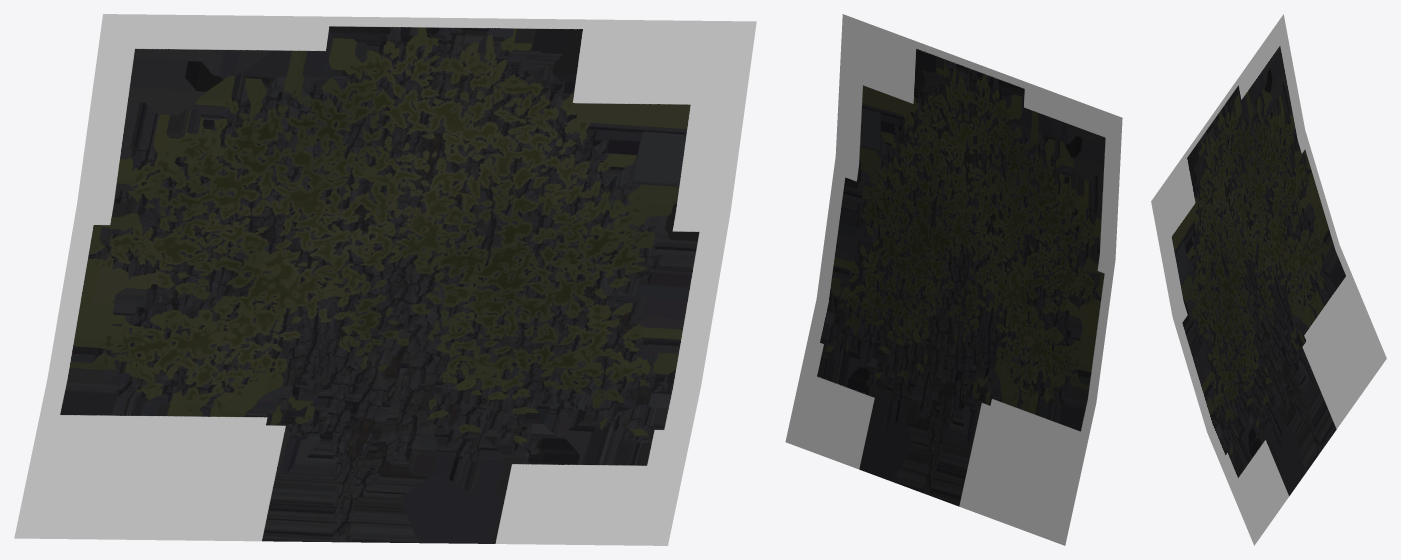
Rendered from treetest5.fbx.
3 renders of one model, left to right at view 1: azimuth 30°, elevation 25°; view 2: azimuth 150°, elevation 25°; view 3: azimuth 270°, elevation 25°, orthographic. The views are drawn at different scales.
Parts seen in each view (by area): view 1: Skeleton; view 2: Skeleton; view 3: Skeleton.
Boxes of the visible parts, left/top/right/bottom form: Skeleton: left=14, top=14, right=756, bottom=545; Skeleton: left=785, top=14, right=1122, bottom=545; Skeleton: left=1151, top=14, right=1386, bottom=545.
Size of the model in its own units: 51.6 by 58.03 by 32.84.
